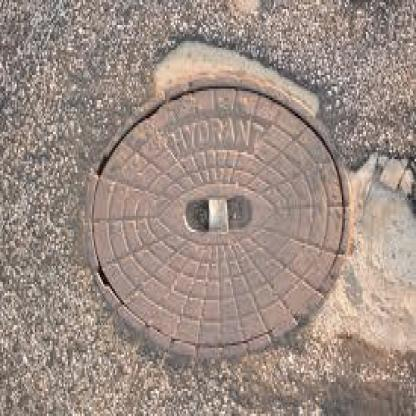manholes: (64, 46, 364, 378)
